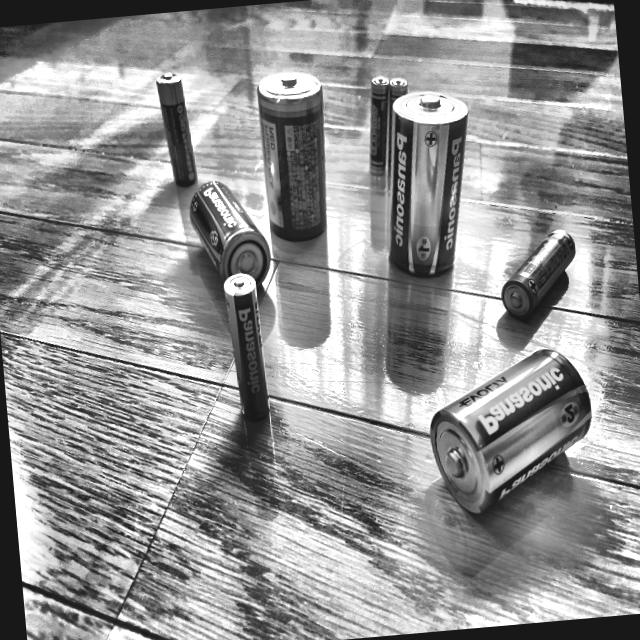drycell: (419, 337, 606, 526), (489, 220, 584, 324)
